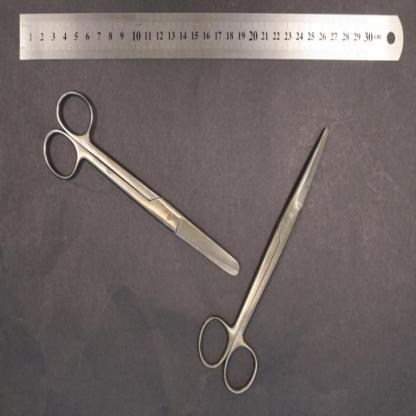Curved Mayo Scissors: (197, 126, 330, 396)
Dressing Scissors: (41, 86, 241, 277)
